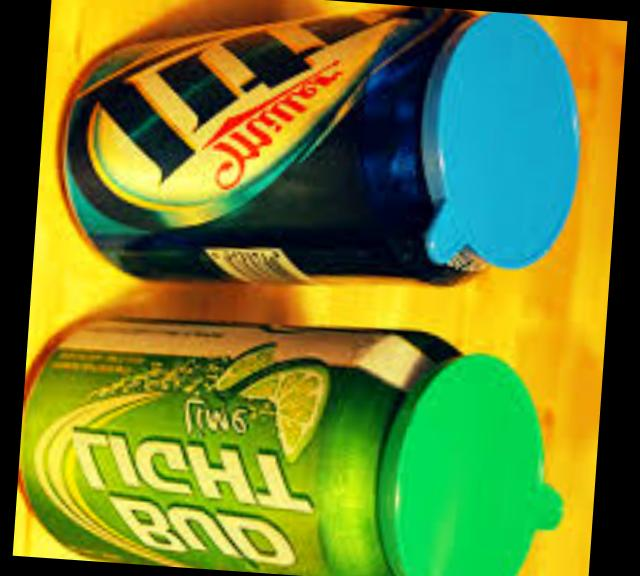metal: (67, 7, 583, 288), (23, 324, 564, 576)
